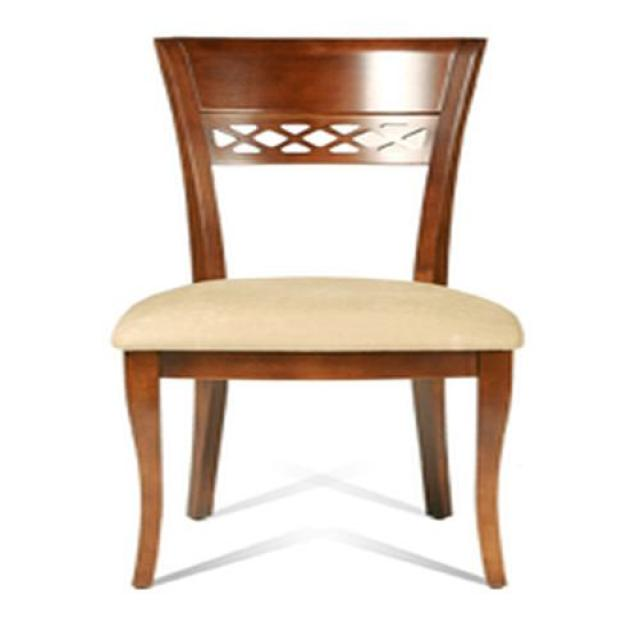chair: (110, 38, 524, 591)
